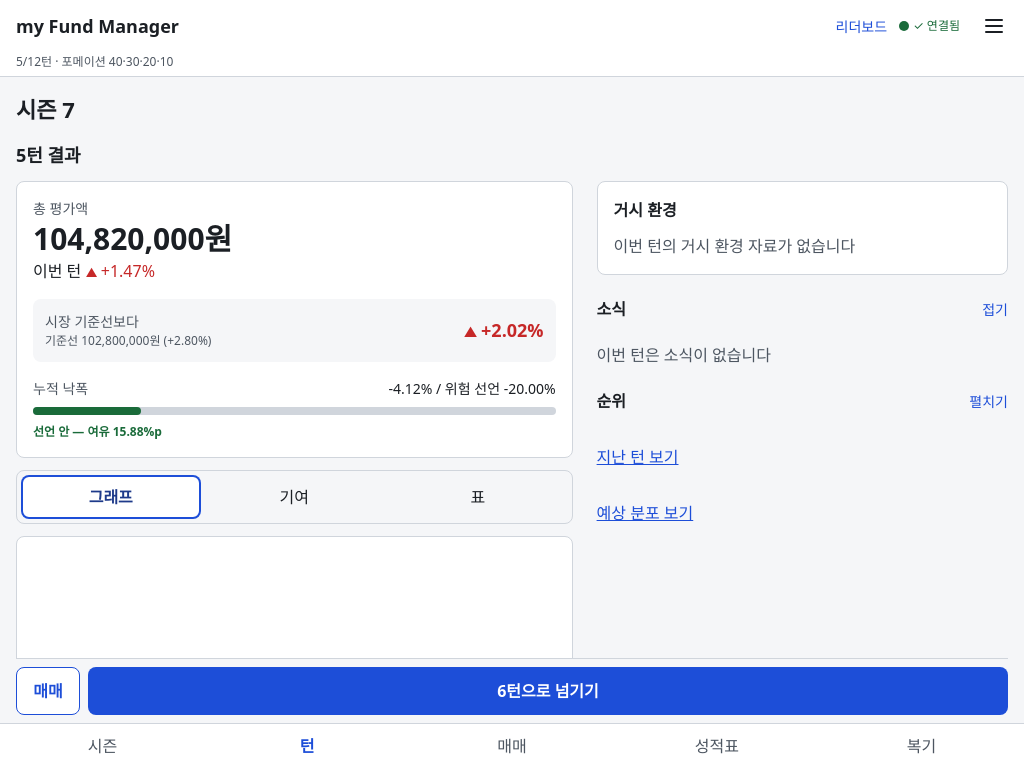
Test: failures › does not repeat after a network failure on the second request
Expected: the text "5/12턴 · 포메이션 40·30·20·10" is shown, [16,53,173,70]
Click the button named "메뉴" at (994, 26), box [972,4,1016,48]
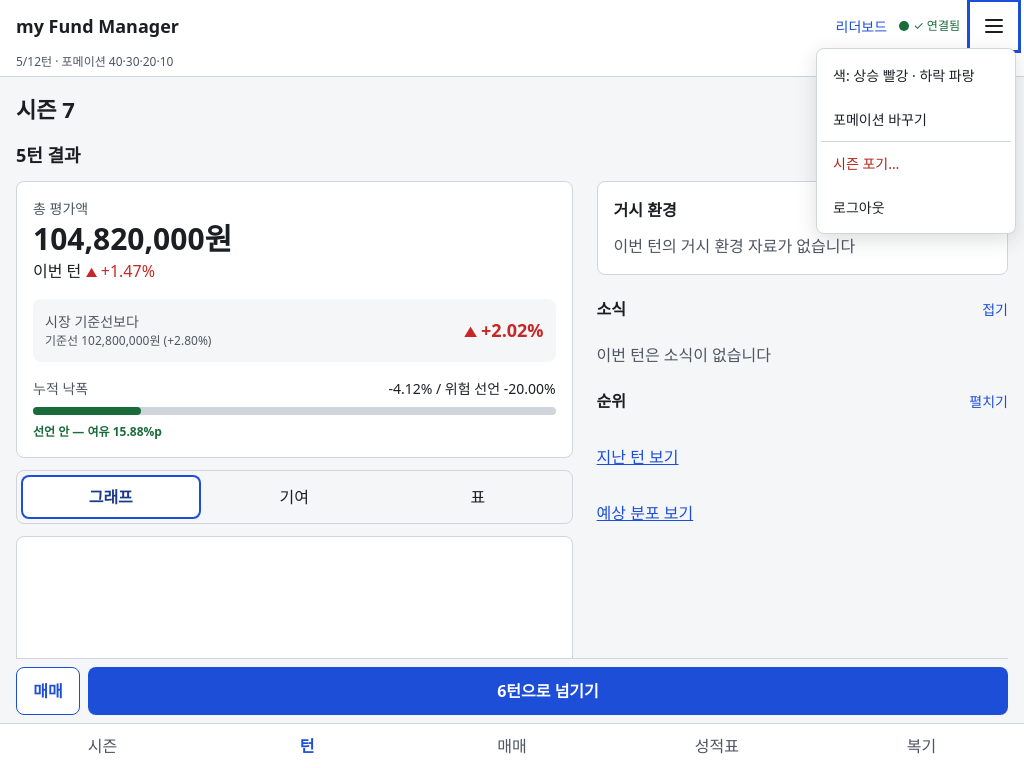
Click the button "시즌 포기…" at (916, 163), box [821,141,1011,185]
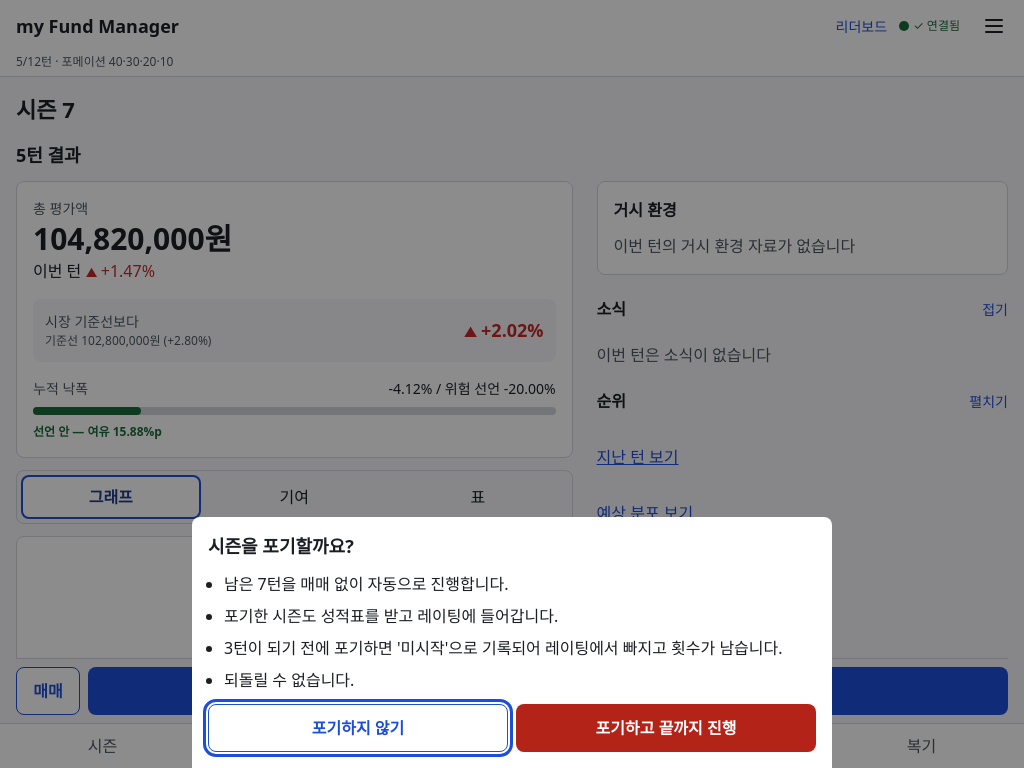
Click the button "포기하고 끝까지 진행" at (666, 728), box [516,704,816,752]
(page scrolled)
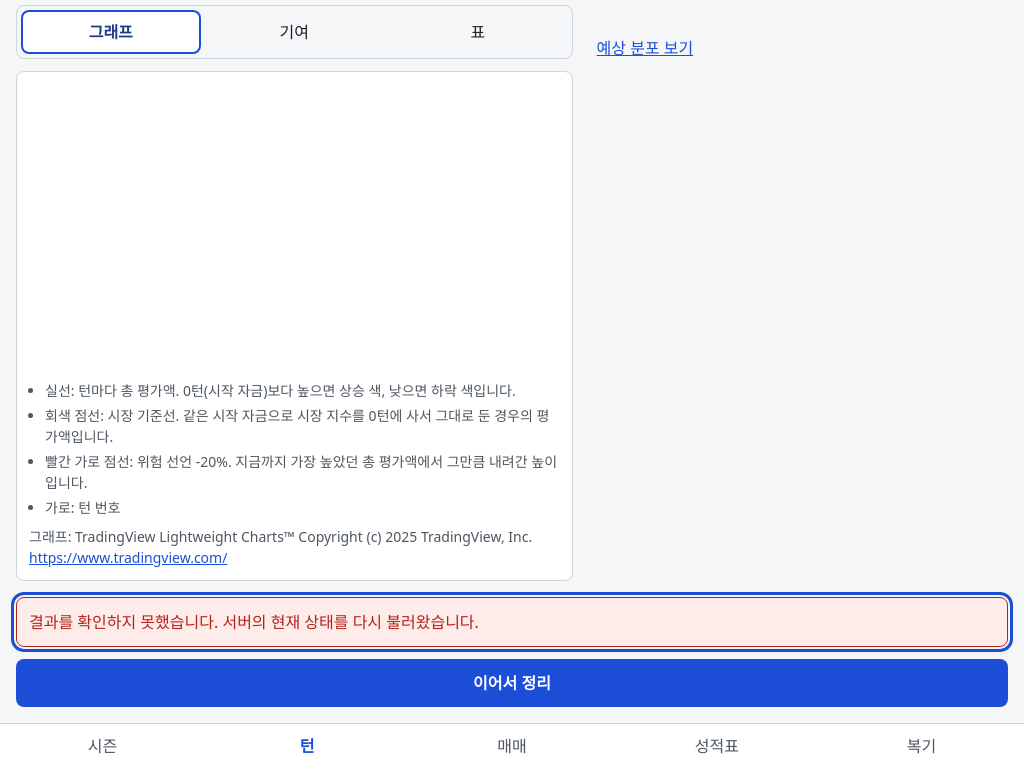
Now the message "결과를 확인하지 못했습니다. 서버의 현재 상태를 다시 불러왔습니다." is shown, box [16,597,1008,647]
Now the button "이어서 정리" is shown, box [16,659,1008,707]
